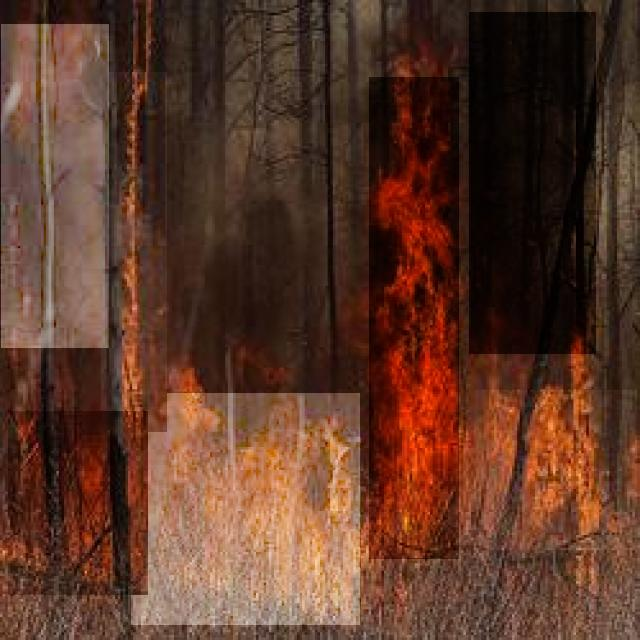Fire: (131, 394, 360, 626), (369, 77, 459, 559), (474, 390, 637, 550), (8, 411, 148, 595), (101, 72, 168, 432)
Smoke: (469, 12, 596, 354), (1, 24, 109, 348), (186, 202, 359, 374)
